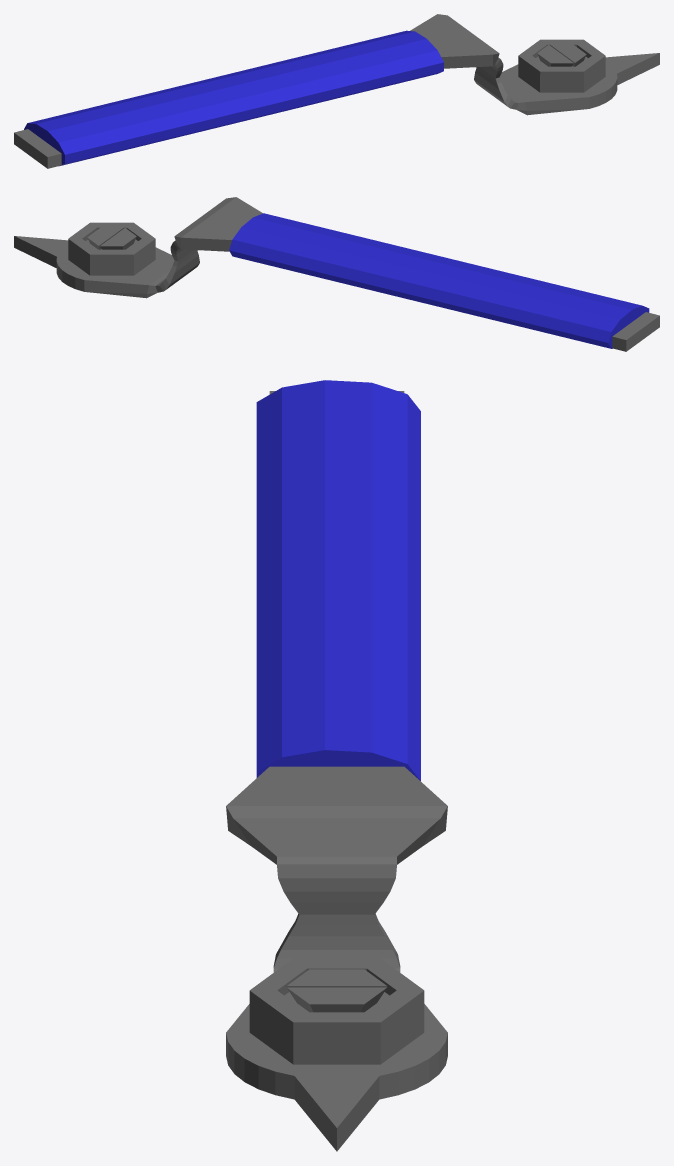
Rendered from ventilBLUE.fbx.
The picture shows the model from 3 angles, top to bottom: view 1: azimuth 30°, elevation 25°; view 2: azimuth 150°, elevation 25°; view 3: azimuth 270°, elevation 25°; orthographic projection. The views are drawn at different scales.
Parts seen in each view (by area): view 1: Cylinder.001, Cylinder; view 2: Cylinder.001, Cylinder; view 3: Cylinder.001, Cylinder.
Boxes of the visible parts, box(x1,y1,x2,y2) form: Cylinder.001: box(24, 30, 443, 166); Cylinder: box(14, 14, 659, 168); Cylinder.001: box(229, 213, 649, 348); Cylinder: box(14, 197, 659, 351); Cylinder.001: box(256, 380, 420, 780); Cylinder: box(226, 391, 447, 1151).
Size of the model in its own units: 1663 by 217 by 254.
